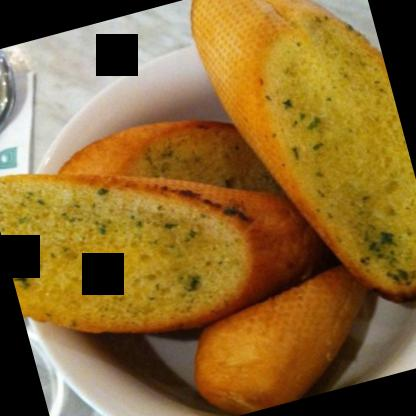toast bread: (0, 95, 338, 382), (183, 0, 415, 338), (172, 256, 396, 415)
